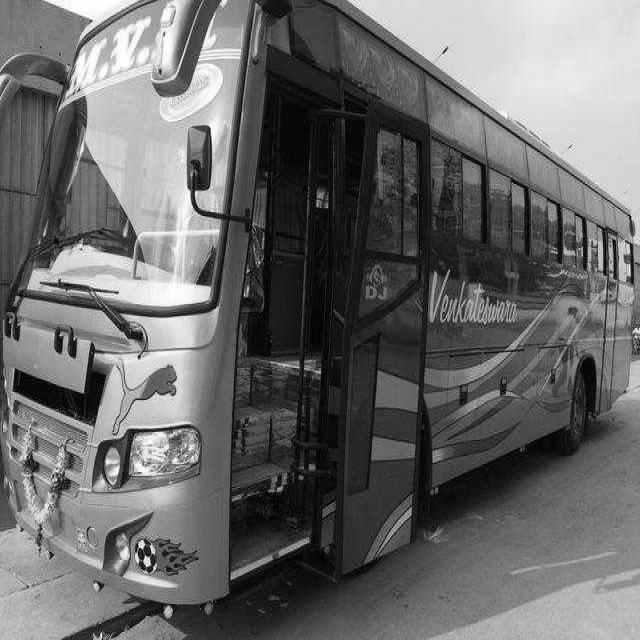Bus: (0, 2, 634, 614)
